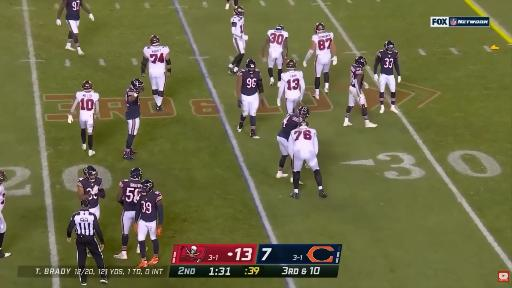Helmet: (140, 179, 154, 195), (83, 166, 97, 181), (130, 167, 143, 181), (131, 79, 143, 93), (246, 58, 256, 73), (297, 107, 309, 119), (82, 81, 93, 91), (355, 56, 366, 66), (234, 6, 244, 16), (315, 23, 325, 33), (385, 41, 394, 52), (286, 60, 296, 69), (150, 35, 159, 45), (0, 170, 6, 183), (299, 120, 309, 127), (275, 25, 283, 30)
Jersey: (289, 127, 318, 157), (78, 177, 103, 208), (138, 191, 162, 222), (143, 46, 169, 74), (119, 180, 141, 211), (282, 71, 305, 99), (237, 70, 260, 95), (278, 114, 300, 140), (76, 91, 99, 115), (377, 50, 398, 75), (312, 32, 333, 56), (125, 88, 140, 119), (267, 30, 288, 51), (66, 0, 81, 20), (351, 65, 363, 90), (231, 15, 243, 38), (0, 184, 5, 213)
Player: (288, 120, 326, 198), (303, 23, 337, 98), (114, 168, 142, 259), (134, 180, 163, 267), (344, 56, 377, 127), (276, 107, 309, 178), (68, 81, 99, 156), (142, 35, 171, 111), (236, 59, 263, 138), (57, 0, 94, 55), (374, 41, 401, 113), (261, 25, 288, 85), (123, 79, 143, 159), (278, 60, 305, 113), (78, 166, 105, 218), (228, 6, 247, 73), (0, 171, 10, 258)
